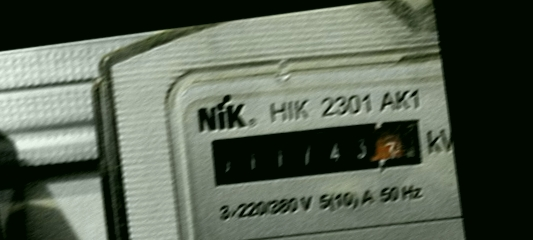0: (216, 145, 234, 174)
1: (243, 142, 261, 171), (271, 139, 287, 169)
3: (352, 132, 369, 161), (382, 138, 399, 161)
4: (326, 137, 343, 163)
7: (298, 138, 315, 165)
screen: (201, 105, 434, 198)
